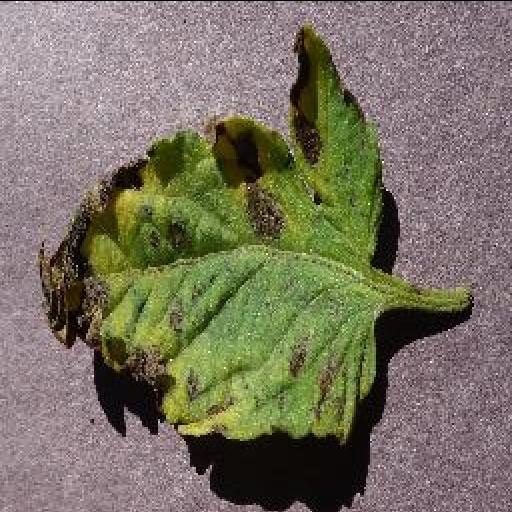disease_tomato: (38, 24, 392, 446)
